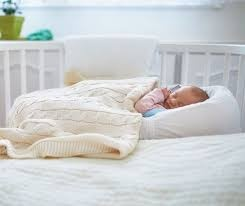baby: (135, 86, 208, 116)
crib: (0, 39, 245, 133)
